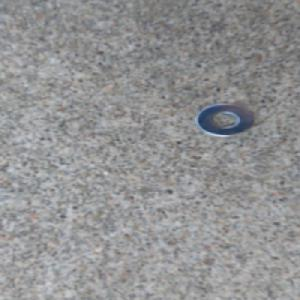Washer: (191, 101, 259, 141)
